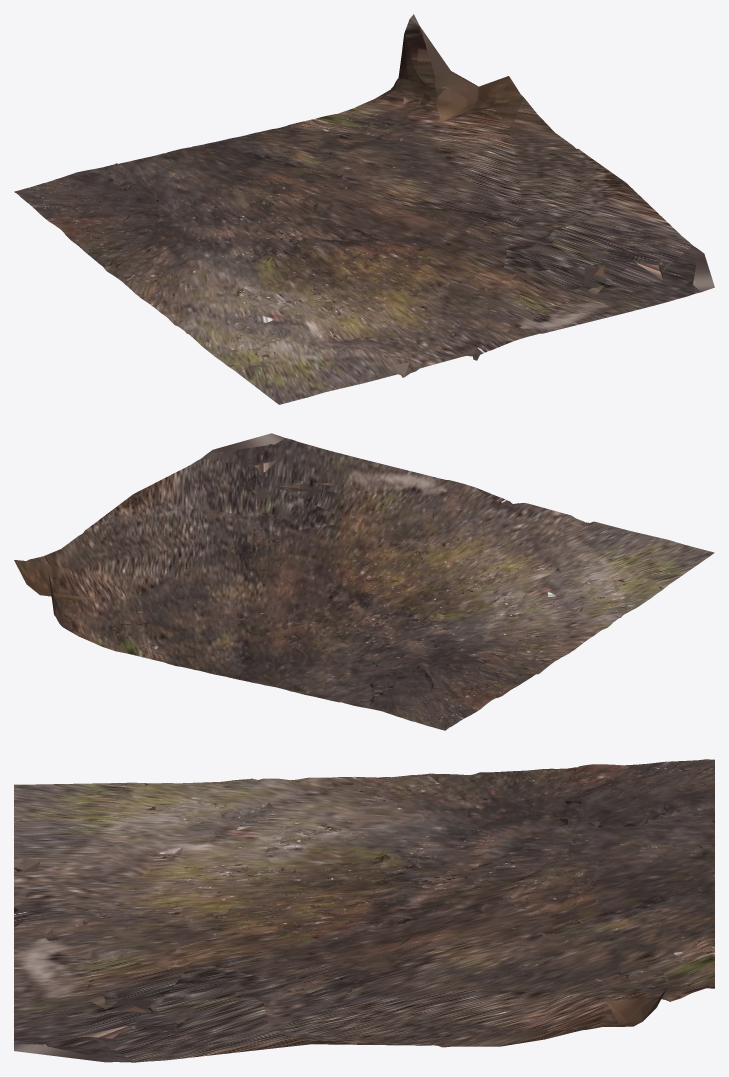
3 renders of one model, top to bottom at view 1: azimuth 30°, elevation 25°; view 2: azimuth 150°, elevation 25°; view 3: azimuth 270°, elevation 25°, orthographic. The views are drawn at different scales.
Size of the model in its own units: 10.44 by 2.27 by 10.44.
3 materials, 3 textured.
